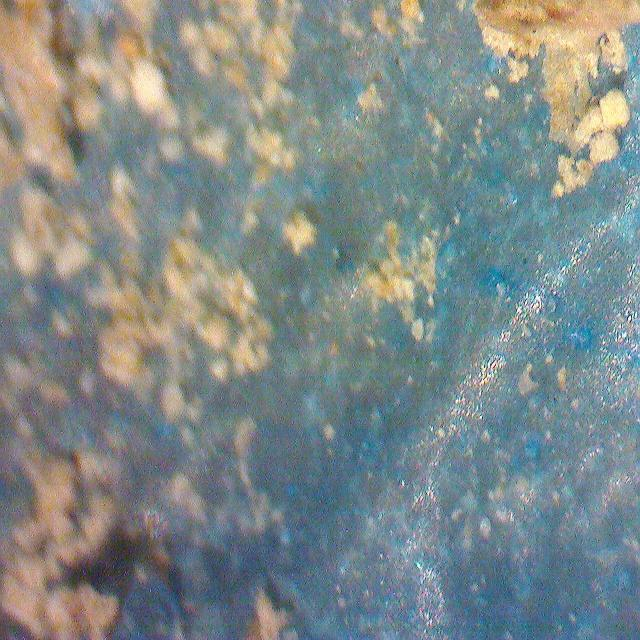microplastic: (12, 0, 640, 640)
